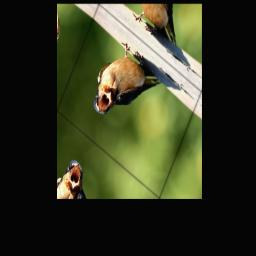Swallow: (86, 31, 165, 146)
